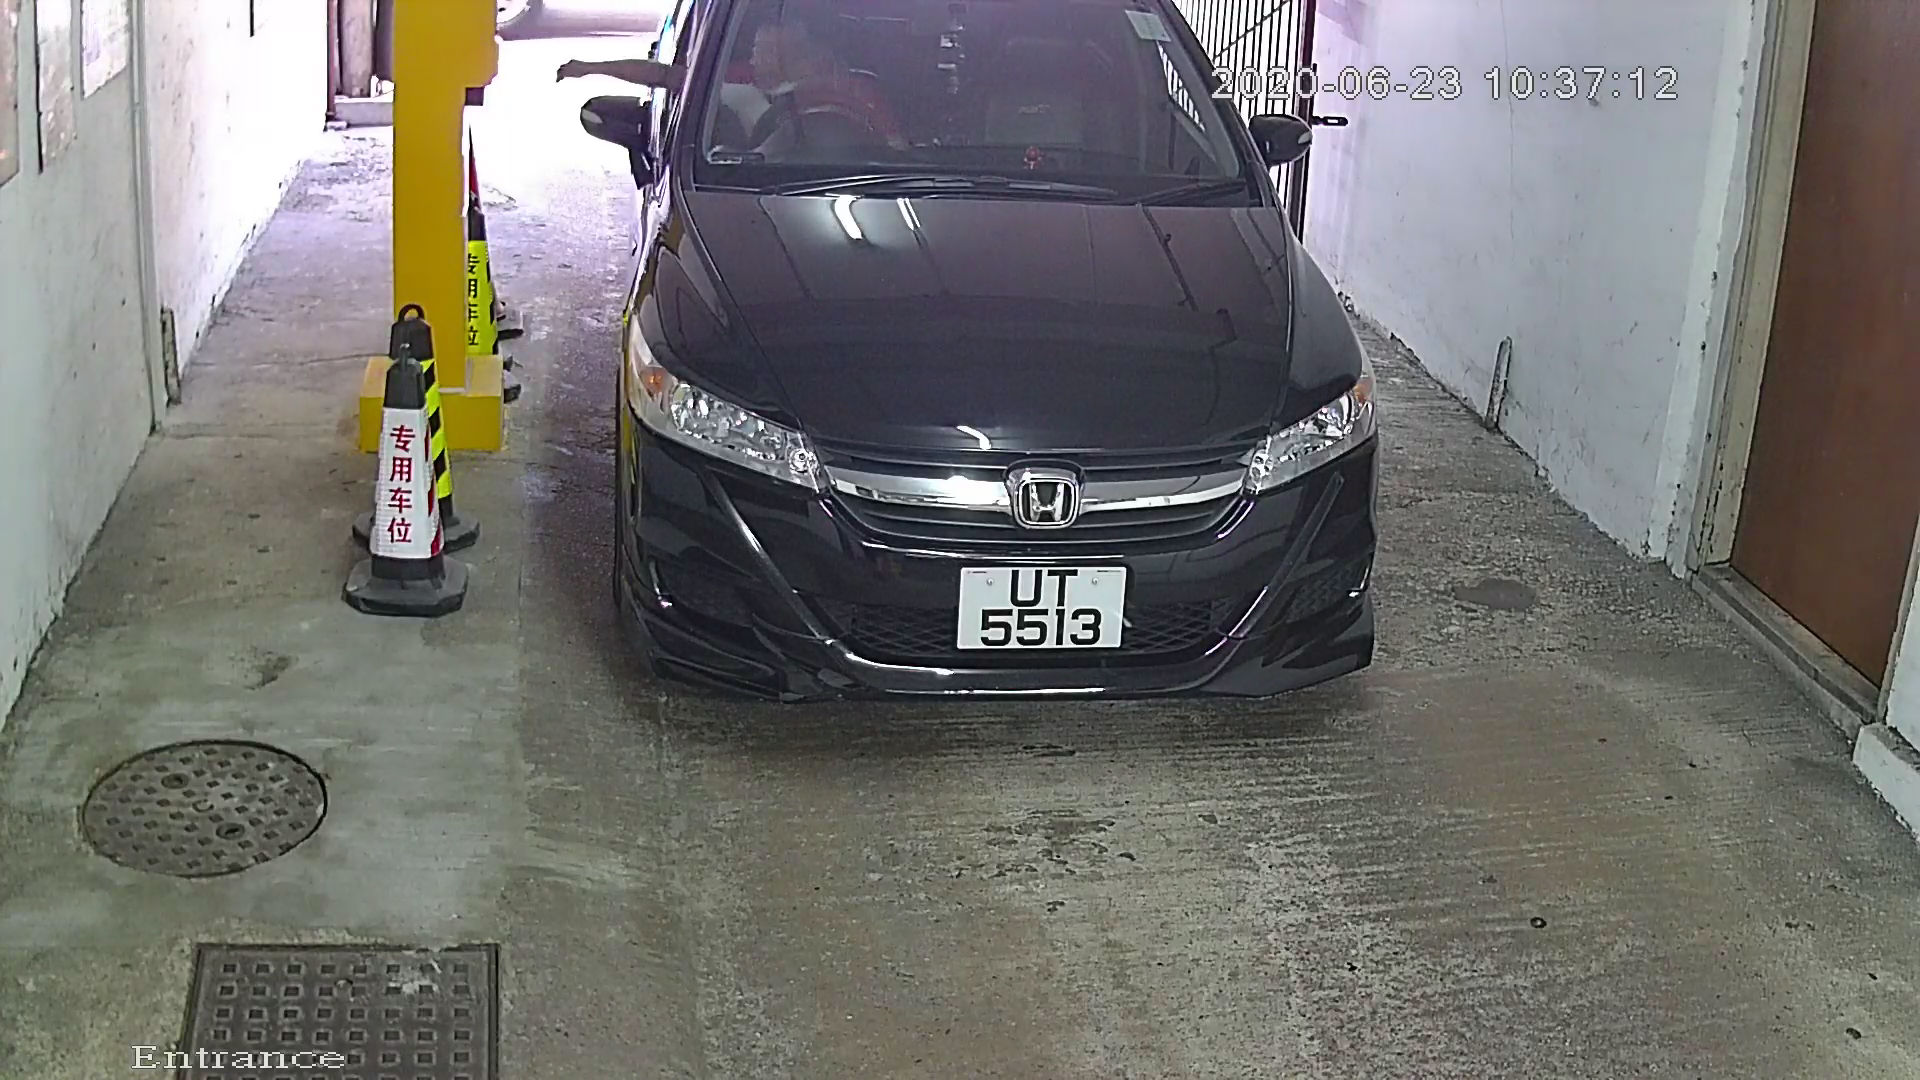privatecar: (529, 1, 1422, 746)
